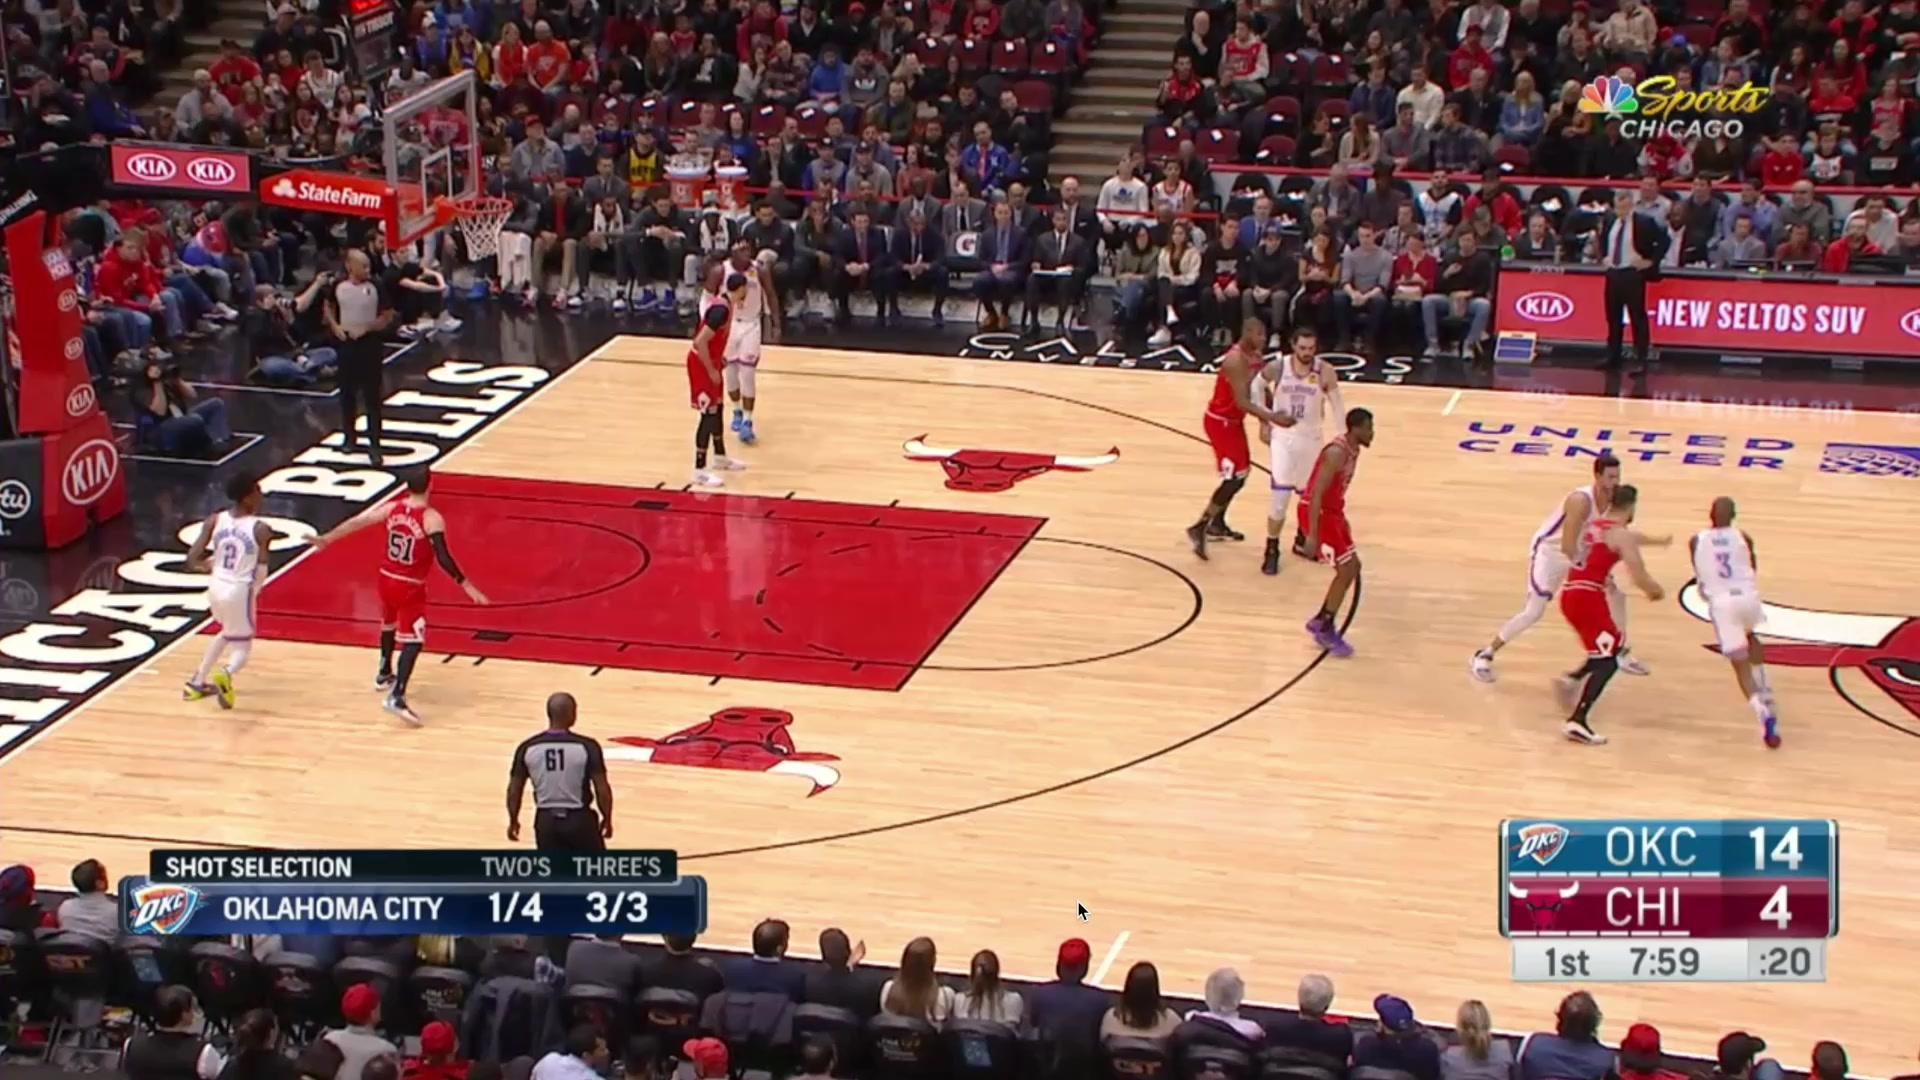no_foul: (1539, 423, 1648, 746)
